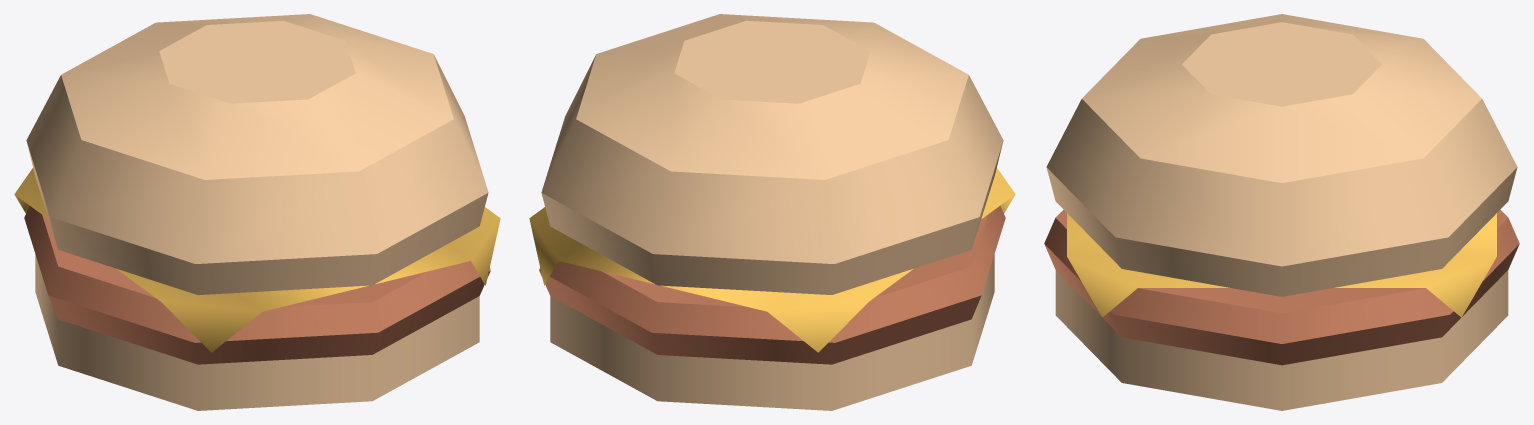
Rendered from burgerCheese.obj.
The picture shows the model from 3 angles, left to right: view 1: azimuth 30°, elevation 25°; view 2: azimuth 150°, elevation 25°; view 3: azimuth 270°, elevation 25°; orthographic projection.
Visible parts, largest first — view 1: bunTop, patty, bunBottom, cheese; view 2: bunTop, patty, bunBottom, cheese; view 3: bunTop, patty, bunBottom, cheese.
Part boxes in pixels (x1,y1,x2,y2): bunTop: [26, 14, 488, 294]; patty: [24, 206, 490, 364]; bunBottom: [35, 254, 479, 410]; cheese: [14, 168, 500, 352]; bunTop: [541, 14, 1003, 294]; patty: [539, 206, 1005, 364]; bunBottom: [550, 254, 994, 410]; cheese: [529, 168, 1015, 352]; bunTop: [1046, 14, 1517, 296]; patty: [1044, 209, 1519, 365]; bunBottom: [1055, 270, 1508, 410]; cheese: [1067, 213, 1496, 317].
Size of the model in its own units: 0.378 by 0.22 by 0.378.
